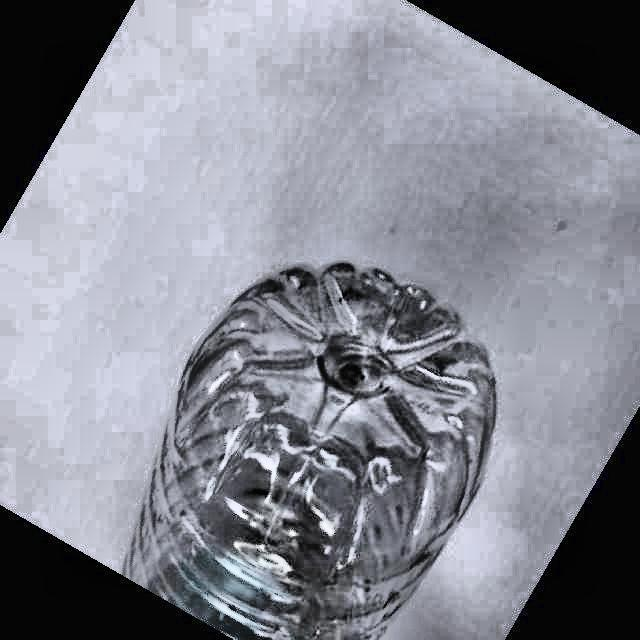plastic: (125, 264, 495, 640)
